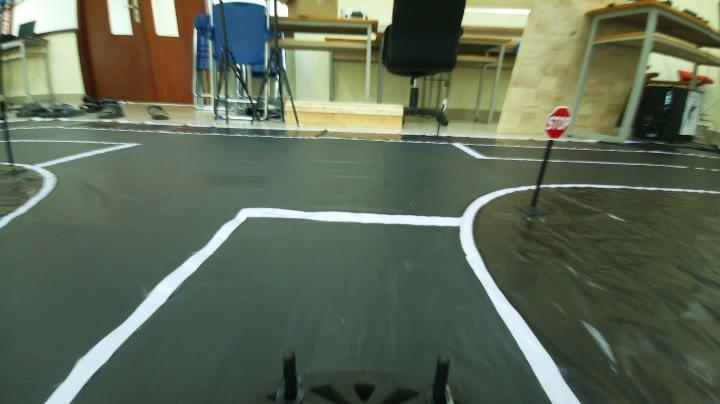stop: (541, 100, 576, 144)
